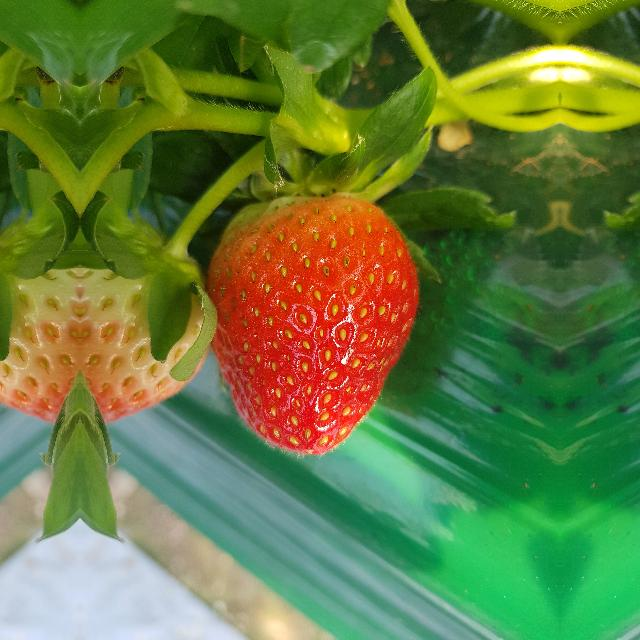Health_100: (204, 191, 420, 455)
Health_50: (82, 225, 216, 427), (0, 225, 77, 427)
